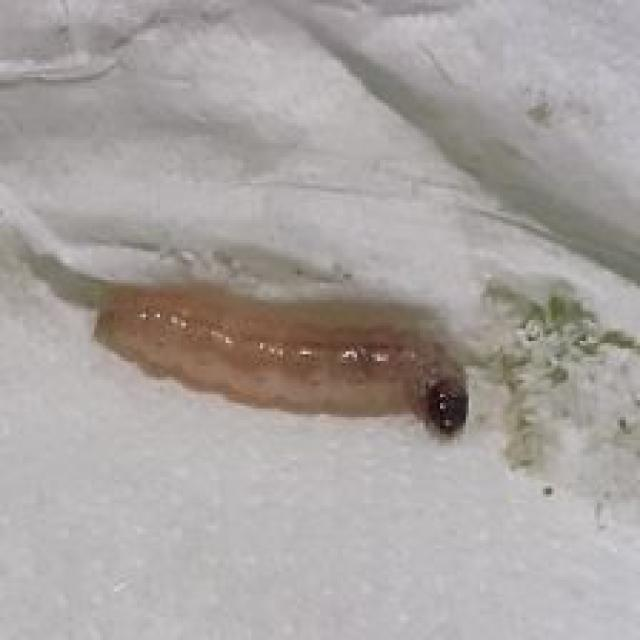white mucus: (86, 275, 496, 467)
